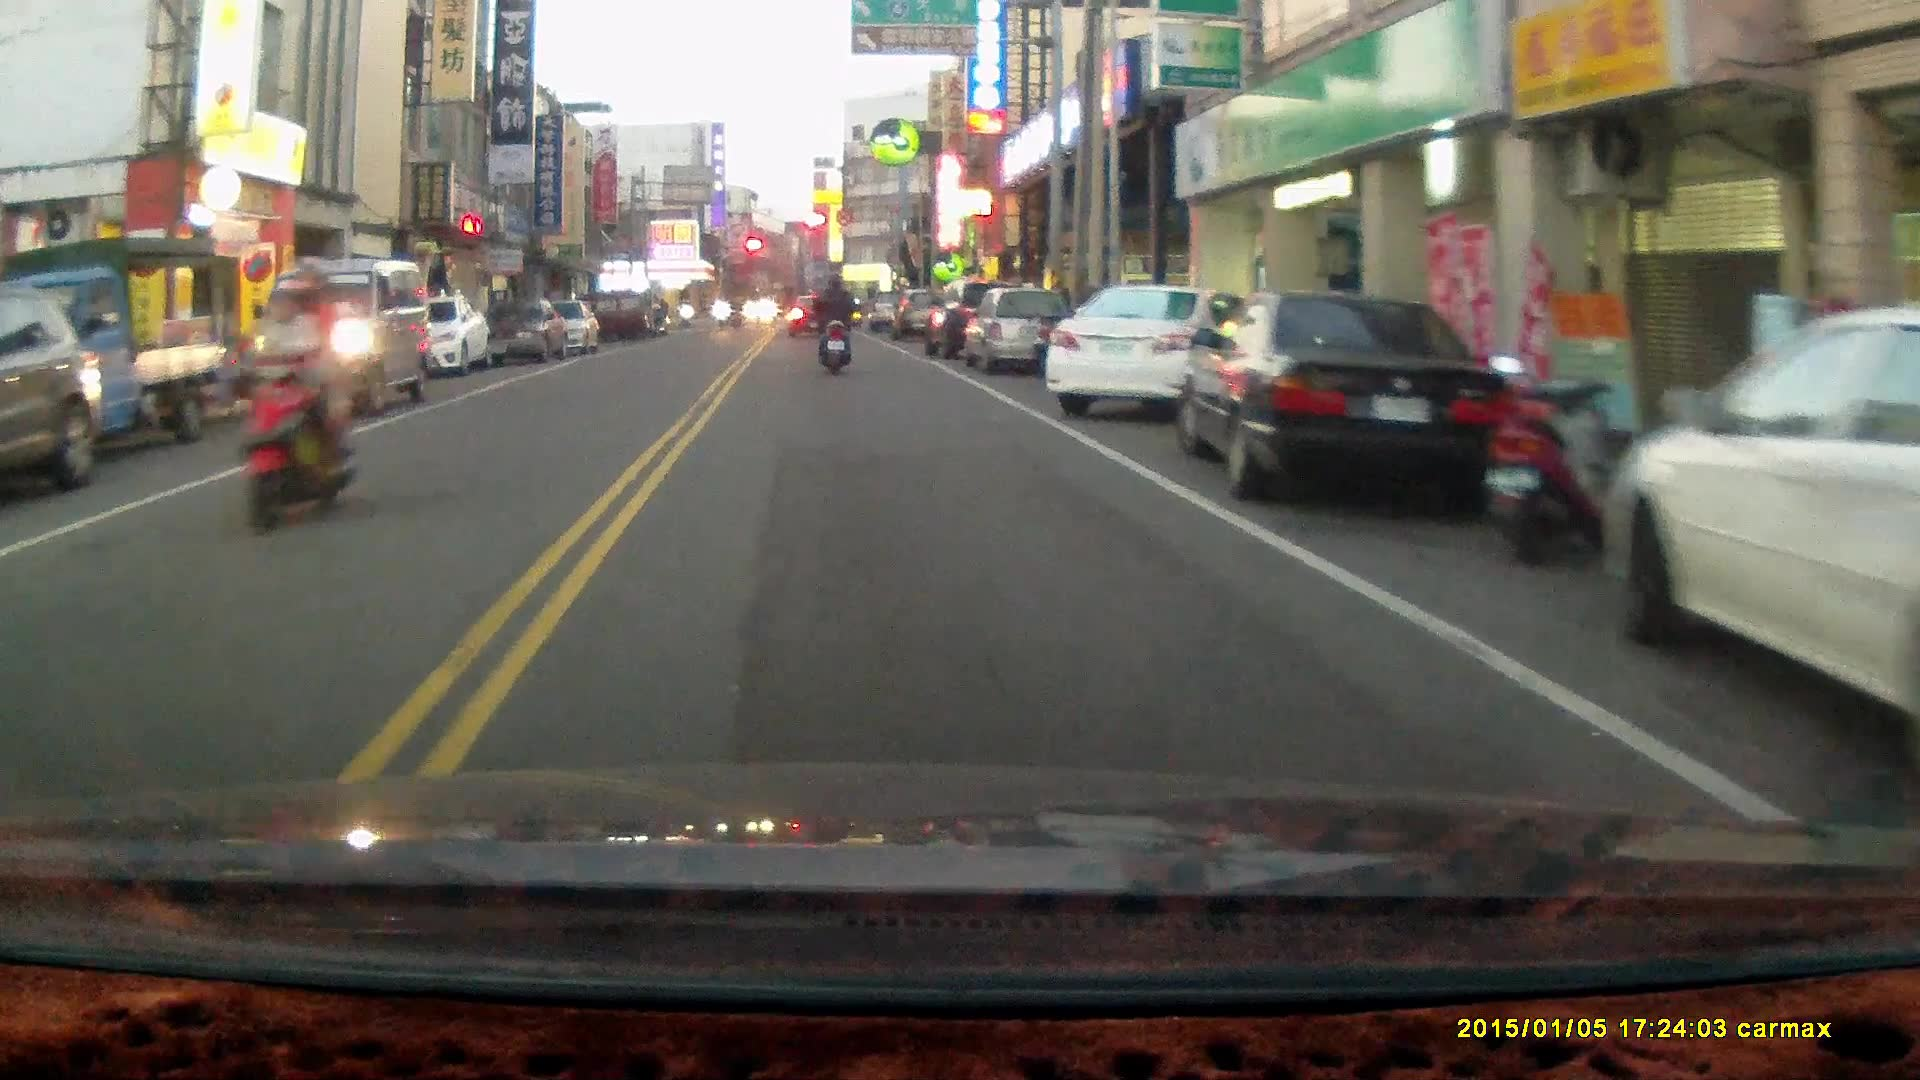rider: (231, 253, 365, 531), (809, 268, 856, 374)
vehicle: (1610, 299, 1920, 806), (1173, 291, 1517, 506), (10, 236, 250, 485), (253, 260, 432, 416), (1044, 282, 1247, 416), (1, 285, 111, 511), (958, 284, 1076, 377), (372, 297, 491, 380)
